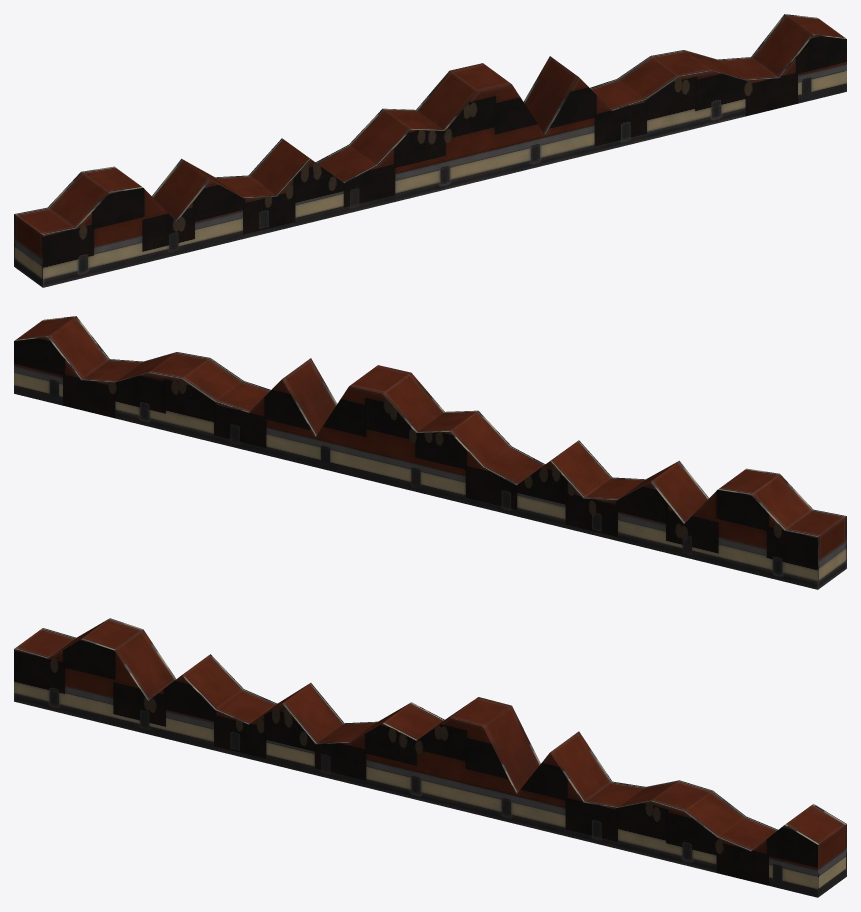
The model's file is hull_cut_edge.glb.
The picture shows the model from 3 angles, top to bottom: view 1: azimuth 30°, elevation 25°; view 2: azimuth 150°, elevation 25°; view 3: azimuth 330°, elevation 25°; orthographic projection.
Parts seen in each view (by area): view 1: hull_cut_edge; view 2: hull_cut_edge; view 3: hull_cut_edge.
Boxes of the visible parts, left/top/right/bottom form: hull_cut_edge: left=14, top=14, right=846, bottom=287; hull_cut_edge: left=14, top=316, right=846, bottom=589; hull_cut_edge: left=14, top=618, right=846, bottom=897.
Size of the model in its own units: 8 by 0.8536 by 0.5.
1 material, 1 textured.
